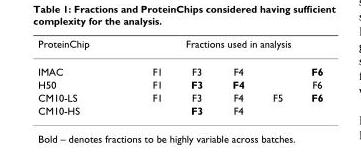table: (37, 37, 322, 116)
table column: (37, 37, 120, 116), (120, 37, 175, 116), (175, 37, 216, 116), (216, 37, 257, 116), (257, 37, 296, 116), (296, 37, 322, 116)
table column header: (37, 37, 322, 77)
table row: (37, 37, 322, 57), (37, 57, 322, 77), (37, 77, 322, 90), (37, 90, 322, 103), (37, 103, 322, 116)
table spanning cell: (120, 37, 322, 57), (37, 37, 120, 77)
